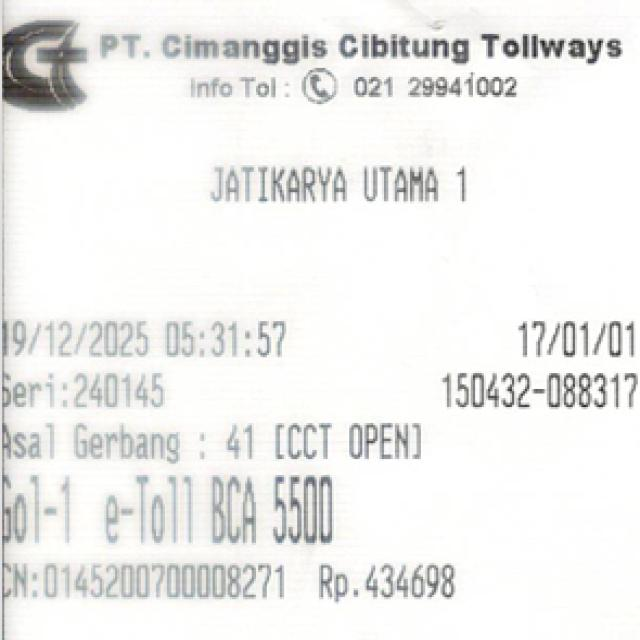date: (0, 313, 296, 362)
store: (87, 30, 628, 67)
total: (260, 473, 364, 553)
